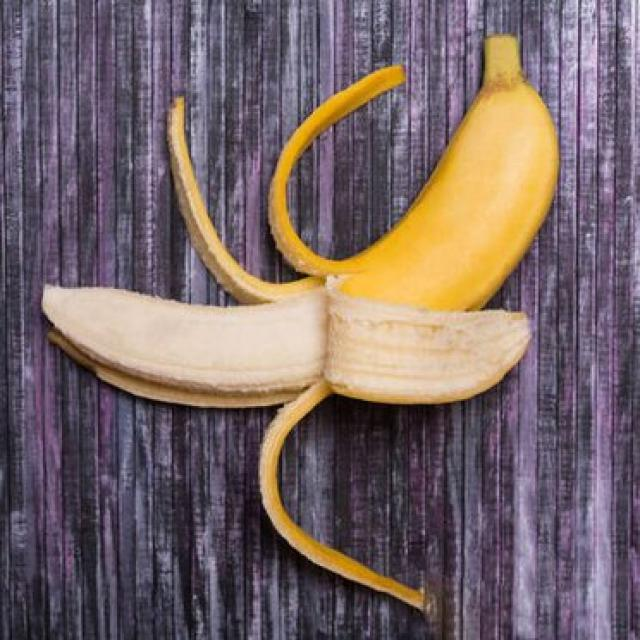-Kitchen waste - fruit-: (50, 33, 551, 613)
